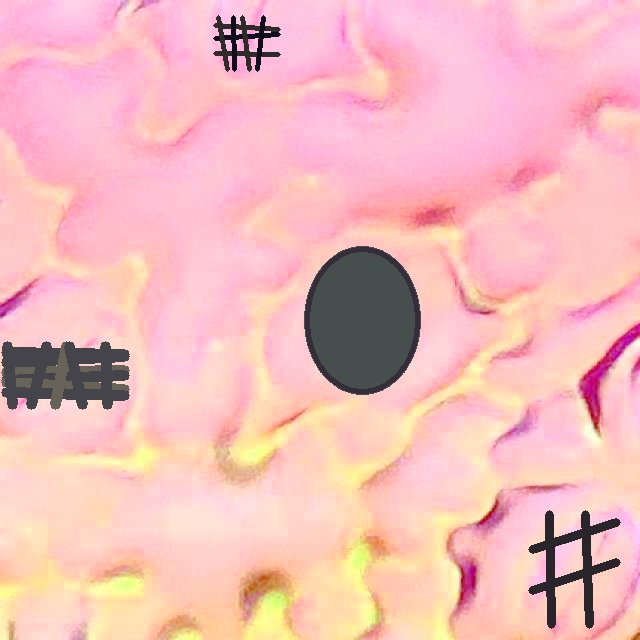close: (303, 245, 420, 394), (529, 511, 620, 628), (2, 342, 128, 409), (213, 15, 280, 71)
